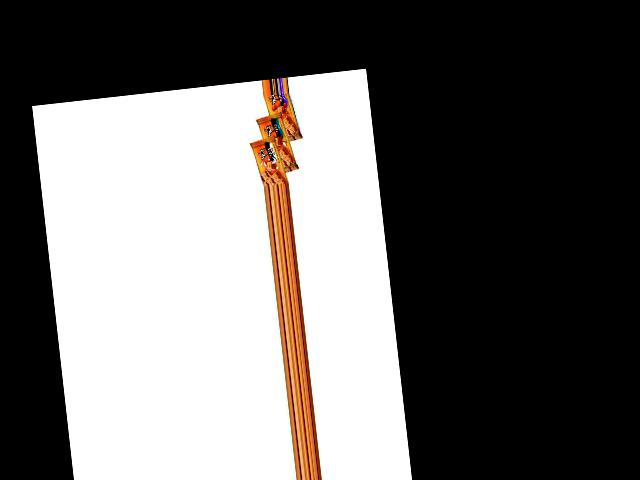chocolate: (262, 92, 300, 148)
